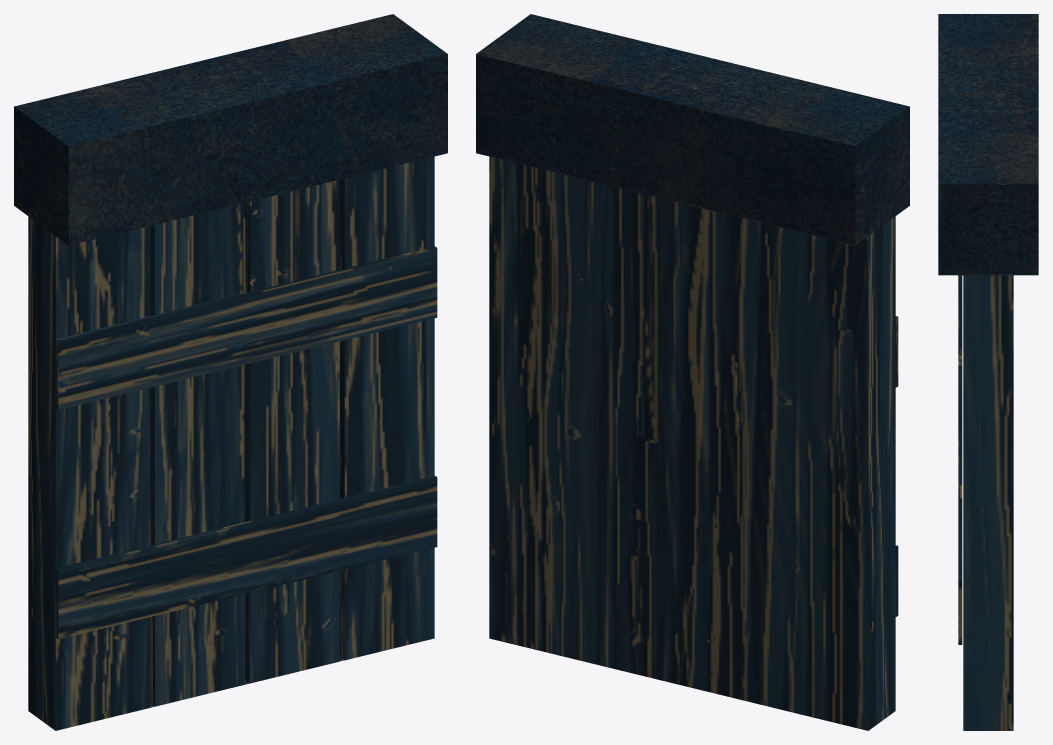
Rendered from door.glb.
3 views of the same model, side by side, from view 1: azimuth 30°, elevation 25°; view 2: azimuth 150°, elevation 25°; view 3: azimuth 270°, elevation 25° (orthographic). The views are drawn at different scales.
Visible parts, largest first — view 1: pasted__tuer4, polySurface28; view 2: pasted__tuer4, polySurface28; view 3: polySurface28, pasted__tuer4.
Part boxes in pixels (box(x1,y1,x2,y2)): pasted__tuer4: box(28, 156, 437, 730); polySurface28: box(14, 14, 447, 245); pasted__tuer4: box(489, 156, 898, 730); polySurface28: box(476, 14, 909, 245); polySurface28: box(938, 14, 1038, 275); pasted__tuer4: box(958, 274, 1013, 730).
Size of the model in its own units: 2 by 3 by 0.5.
1 material, 1 textured.
